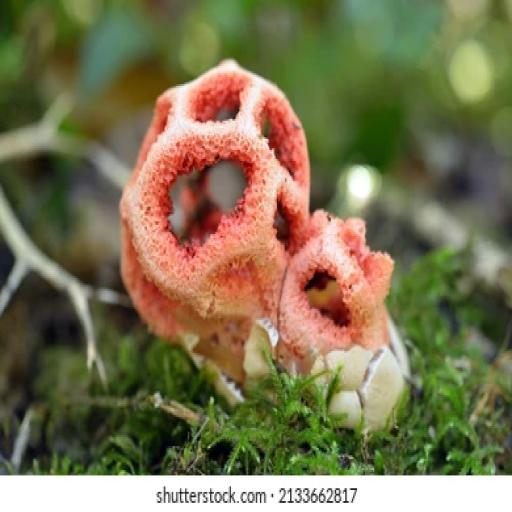Red Cage Fungus: (40, 39, 475, 508)
